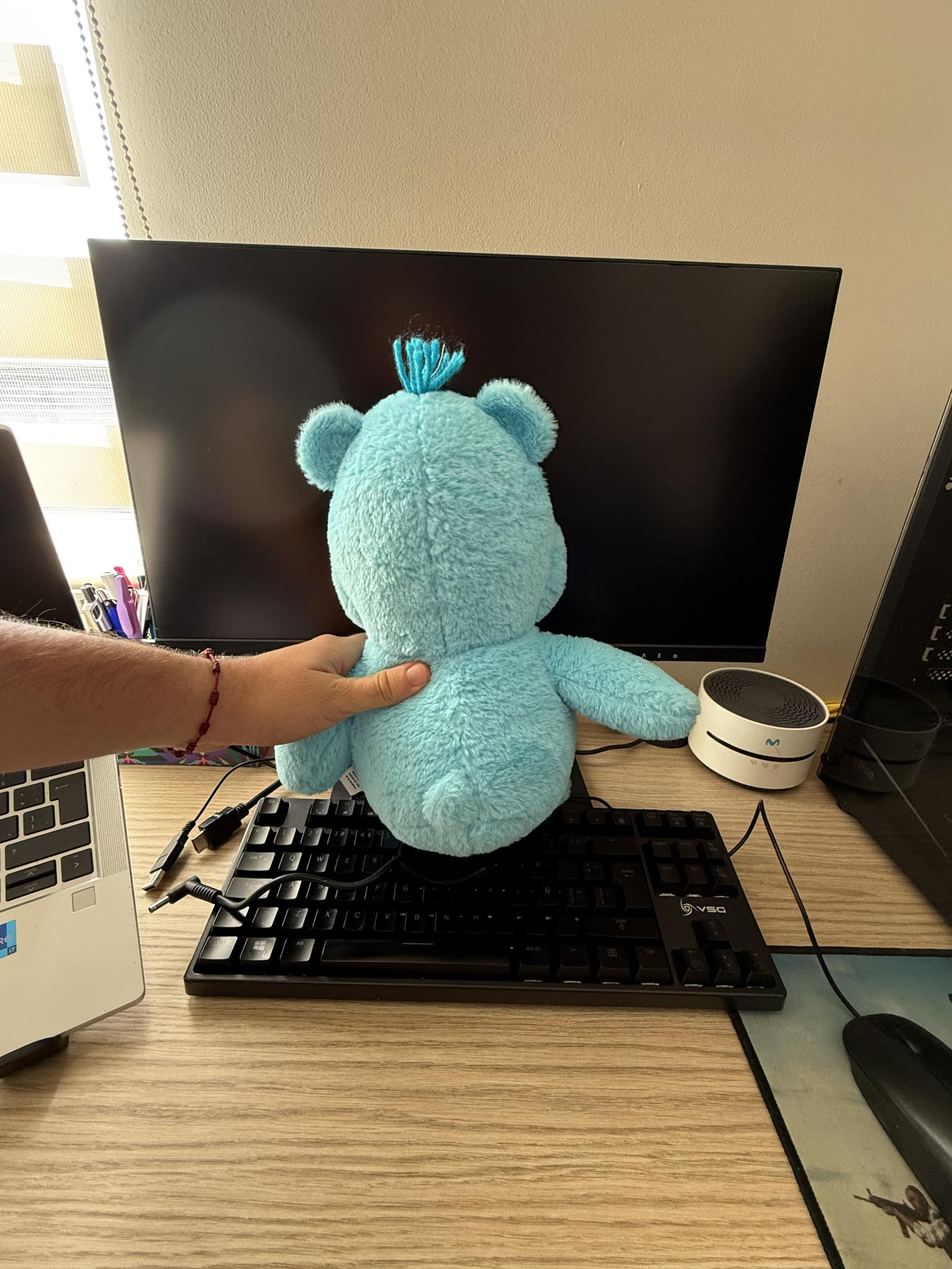peluche_Juan Jose: (275, 338, 702, 857)
